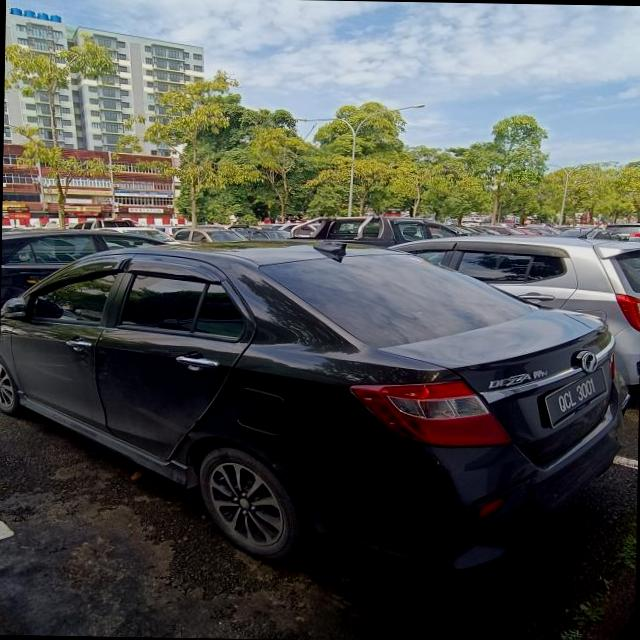PeroduaBezza: (0, 232, 630, 578)
